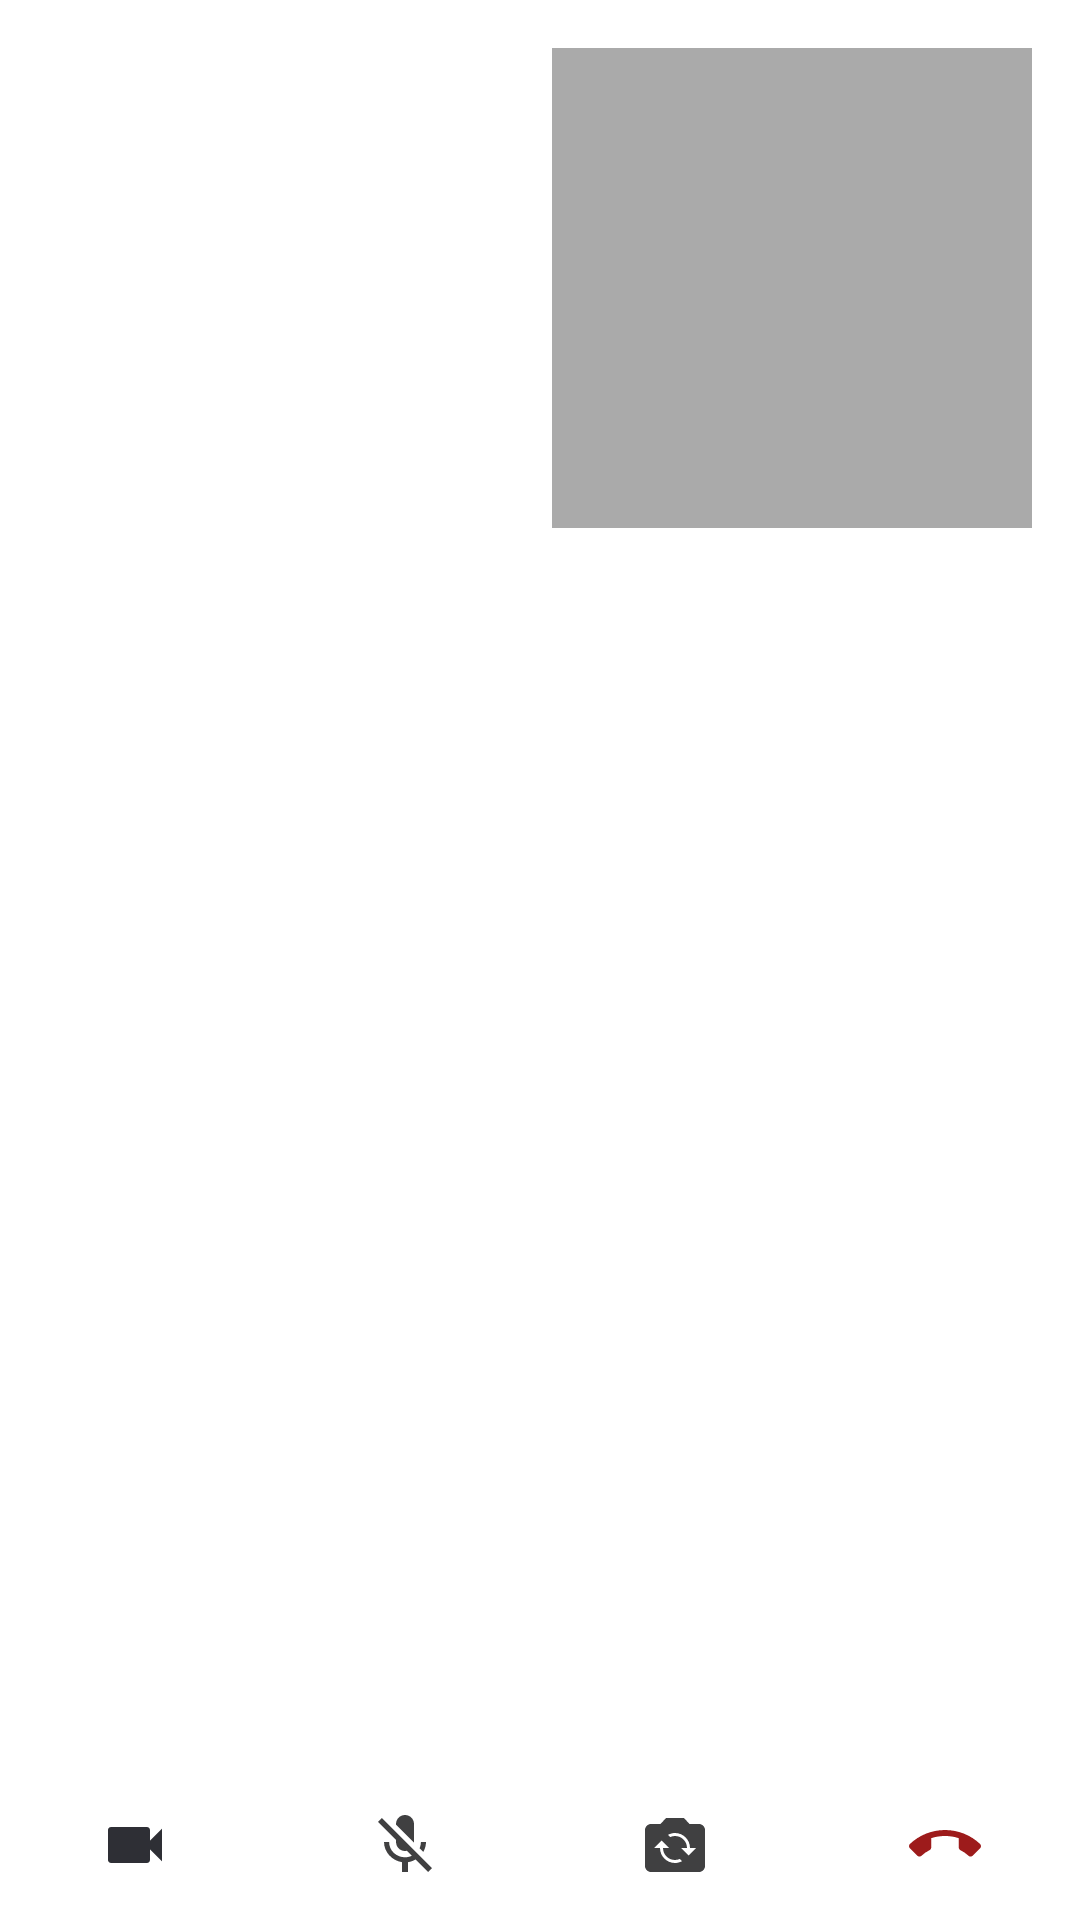

Locate icon controls on the screen. Image size 1080 x 1920, boxes as (x1, y1, x2, y2).
camera: (645, 1818, 705, 1872)
end call: (909, 1830, 981, 1857)
mute: (378, 1815, 432, 1872)
video on: (108, 1827, 162, 1863)
